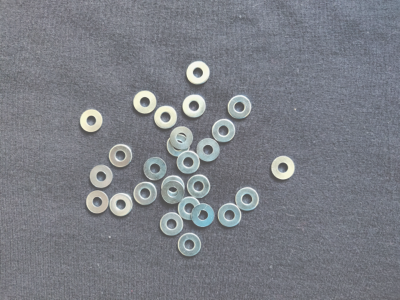circle: (132, 180, 159, 207), (78, 108, 105, 135), (179, 94, 207, 120), (176, 233, 205, 258), (178, 196, 204, 222), (195, 137, 221, 163), (132, 89, 158, 115), (271, 155, 295, 183), (108, 194, 134, 219), (159, 213, 185, 238), (235, 187, 261, 212), (227, 95, 253, 120), (142, 157, 167, 183), (109, 142, 134, 168), (88, 164, 114, 189), (186, 60, 212, 85), (211, 119, 236, 144), (86, 190, 110, 215), (176, 151, 201, 175), (153, 105, 178, 129), (162, 176, 185, 202), (187, 175, 211, 199), (218, 203, 242, 227), (167, 134, 191, 158), (162, 181, 186, 204), (192, 204, 214, 228), (170, 127, 194, 149)
